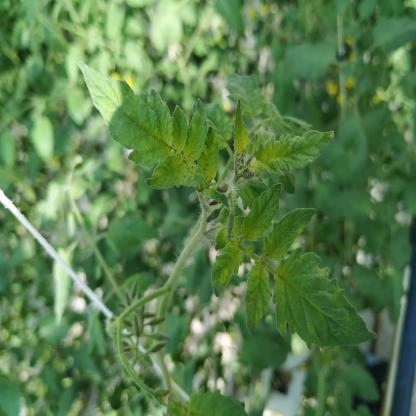T_L_R: (79, 62, 176, 168), (274, 249, 376, 348), (257, 132, 334, 177), (263, 210, 316, 261), (242, 185, 281, 242), (246, 262, 272, 335), (212, 240, 244, 297), (184, 100, 208, 166), (147, 154, 190, 190), (173, 106, 189, 154)
